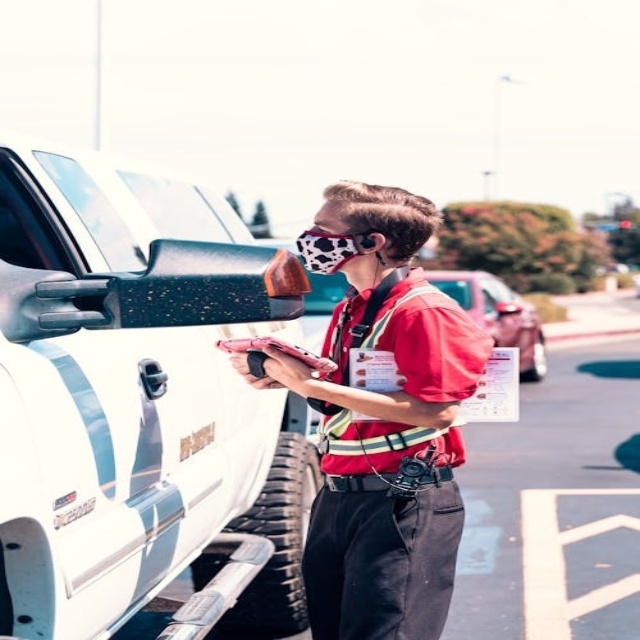Mascara: (295, 228, 370, 273)
Sin_gafas: (306, 222, 373, 243)
Sin_guantes: (225, 342, 300, 390)
